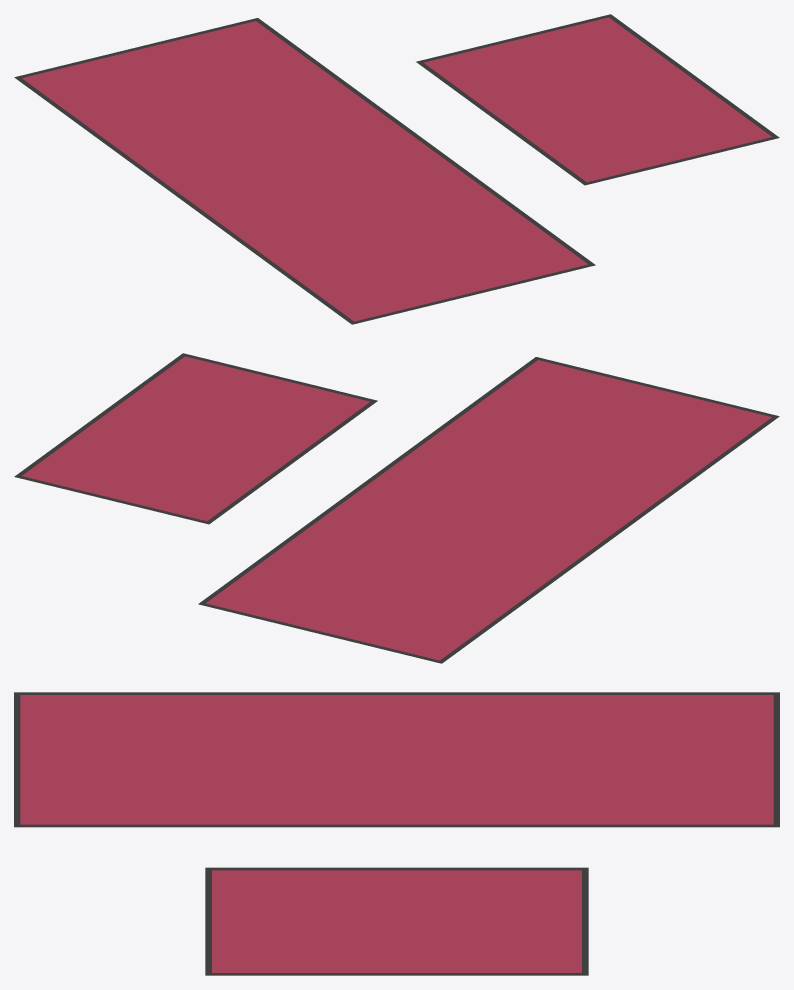
The model's file is tapis.glb.
The picture shows the model from 3 angles, top to bottom: view 1: azimuth 30°, elevation 25°; view 2: azimuth 150°, elevation 25°; view 3: azimuth 270°, elevation 25°; orthographic projection. The views are drawn at different scales.
Visible parts, largest first — view 1: grand_tapis_rouge, petit_tapis_rouge, grand_tapis_bordure, petit_tapis_bordure; view 2: grand_tapis_rouge, petit_tapis_rouge, grand_tapis_bordure, petit_tapis_bordure; view 3: grand_tapis_rouge, petit_tapis_rouge, grand_tapis_bordure, petit_tapis_bordure.
Part boxes in pixels (left/top/right/bottom): grand_tapis_rouge: left=22, top=21, right=587, bottom=321; petit_tapis_rouge: left=424, top=17, right=771, bottom=181; grand_tapis_bordure: left=14, top=18, right=595, bottom=324; petit_tapis_bordure: left=416, top=14, right=779, bottom=185; grand_tapis_rouge: left=206, top=360, right=771, bottom=660; petit_tapis_rouge: left=22, top=356, right=369, bottom=520; grand_tapis_bordure: left=198, top=357, right=779, bottom=663; petit_tapis_bordure: left=14, top=353, right=377, bottom=524; grand_tapis_rouge: left=20, top=695, right=773, bottom=824; petit_tapis_rouge: left=212, top=870, right=581, bottom=972; grand_tapis_bordure: left=14, top=692, right=779, bottom=827; petit_tapis_bordure: left=205, top=867, right=588, bottom=975.
Bounding box in the file's own units: 1.05 × 0 × 1.2.
